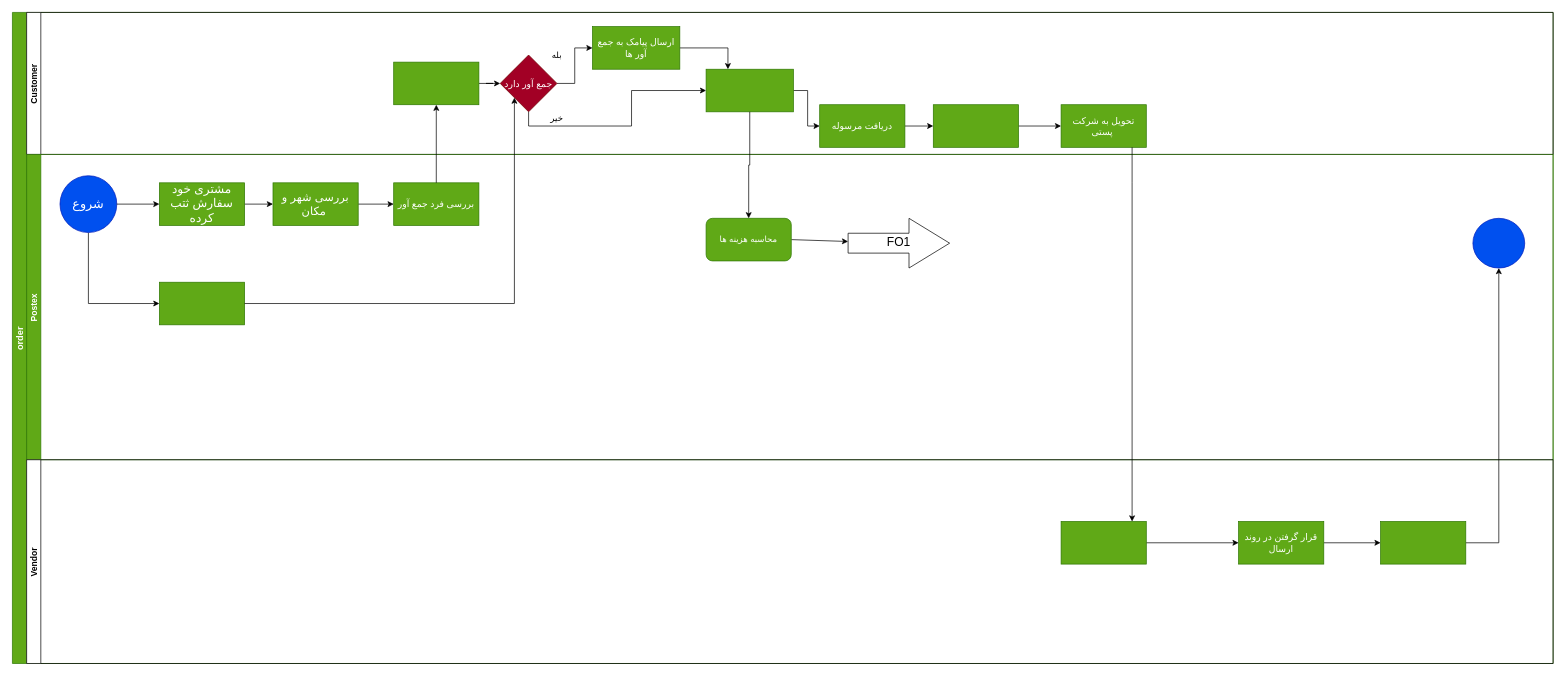
Some shapes in this 1566 by 676 pixel diagram are drawn without their labels. Each missing label, with the centre of its shape:
ارسال پیام به نماینده در پنل: [436,83]
تحویل به گیرنده: [1423,542]
تیک آماده به ارسال: [975,125]
تیک جمع آوری: [749,90]
خود نماینده ثبت انجام داده باشد: [202,303]
قبول مرسوله: [1103,542]
پایان: [1498,243]
